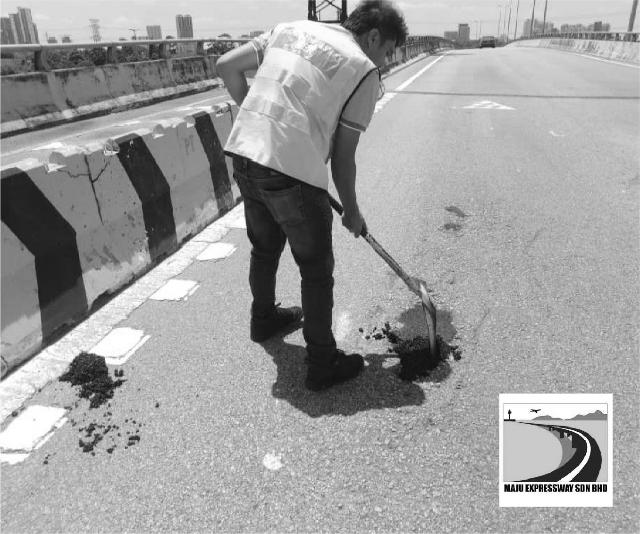Pothole: (382, 322, 458, 388)
